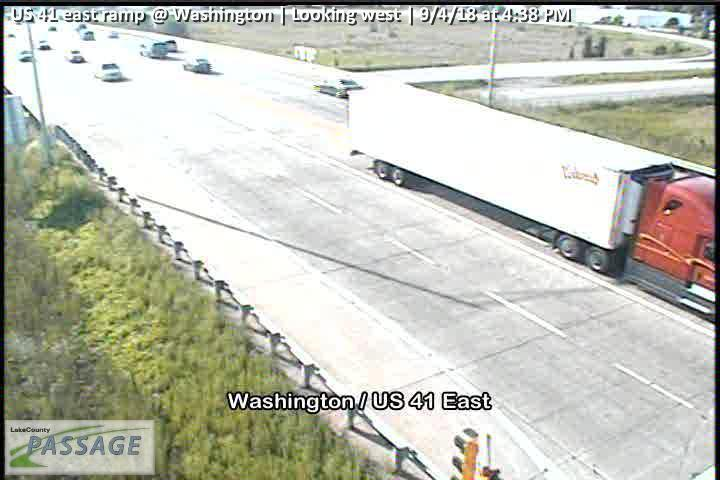SUV: (179, 54, 211, 74), (95, 60, 122, 83), (64, 46, 87, 65), (164, 37, 179, 53)
Sedan: (314, 74, 365, 99), (18, 50, 35, 62), (83, 30, 96, 41), (38, 40, 52, 50), (108, 30, 121, 39)
Truck: (347, 70, 720, 323), (139, 38, 169, 60)
